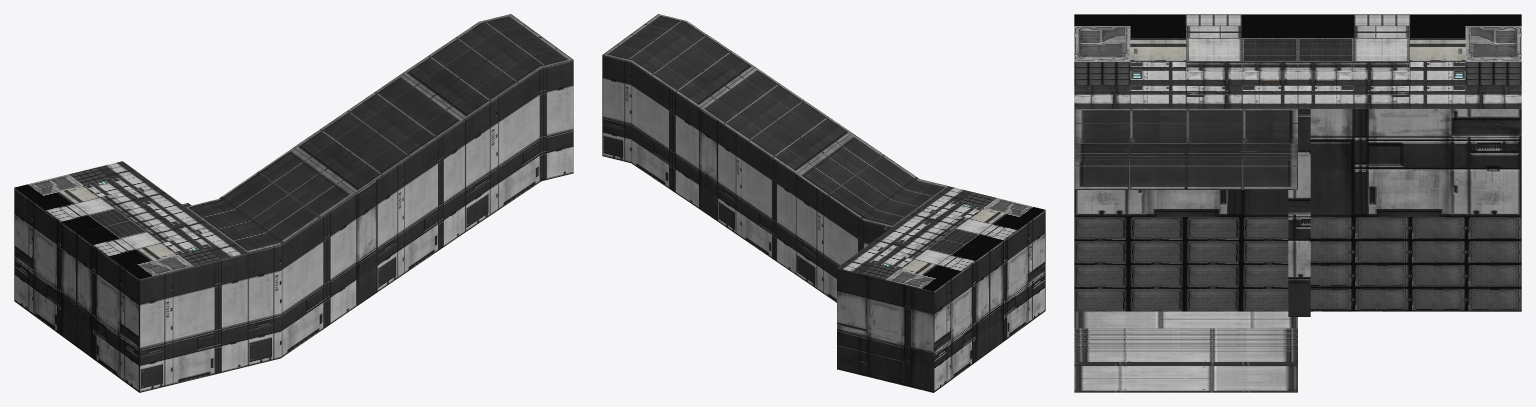
The model's file is StairWell2.fbx.
The picture shows the model from 3 angles, left to right: view 1: azimuth 30°, elevation 25°; view 2: azimuth 150°, elevation 25°; view 3: azimuth 270°, elevation 25°; orthographic projection. The views are drawn at different scales.
Visible parts, largest first — view 1: StairWell2; view 2: StairWell2; view 3: StairWell2.
Part boxes in pixels (<box>): StairWell2: <box>14,14,573,392</box>; StairWell2: <box>602,14,1045,392</box>; StairWell2: <box>1074,14,1521,392</box>.
Size of the model in its own units: 20 by 10 by 10.
